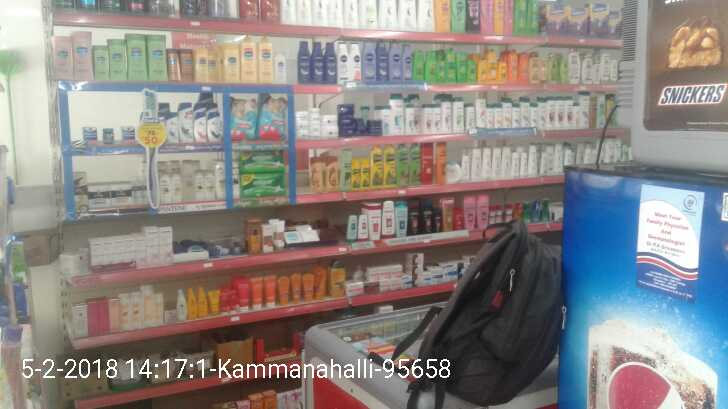beauty: (178, 102, 194, 143), (165, 111, 179, 144), (216, 158, 227, 199), (157, 172, 171, 204), (207, 111, 222, 140), (194, 111, 207, 142), (204, 170, 216, 199), (171, 173, 182, 203), (194, 168, 204, 200)
pharmacy: (226, 96, 257, 139), (258, 95, 286, 139), (238, 149, 284, 173), (241, 173, 284, 197)
